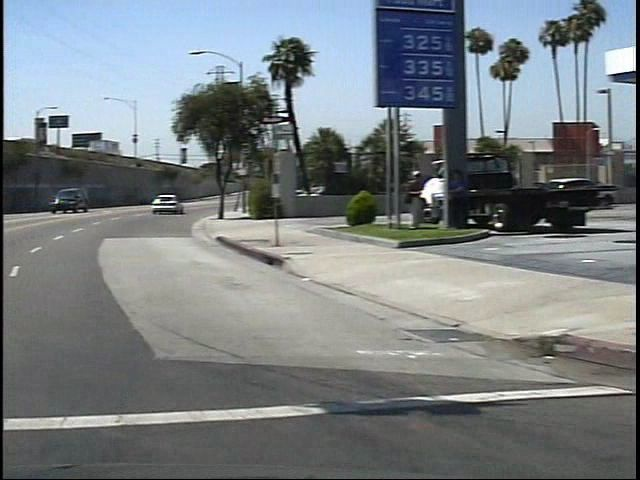person: (392, 164, 419, 232)
